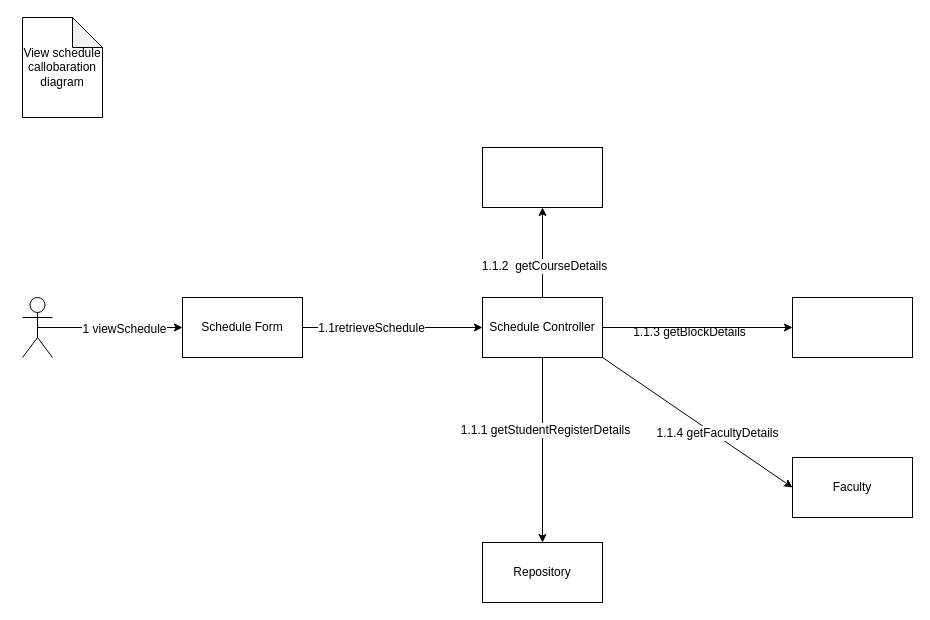
Some shapes in this 930 by 620 pixel diagram are drawn without their labels. The box of each missing label's shape, as (x1, y1, x2, y2) in pixels:
Block: (792, 296, 912, 358)
Course: (482, 146, 602, 208)
Student: (22, 296, 52, 358)
